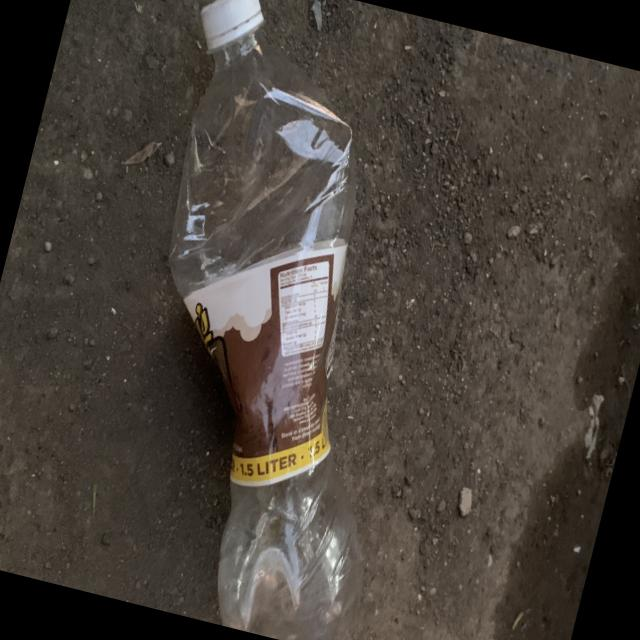Bottle: (168, 0, 359, 640)
